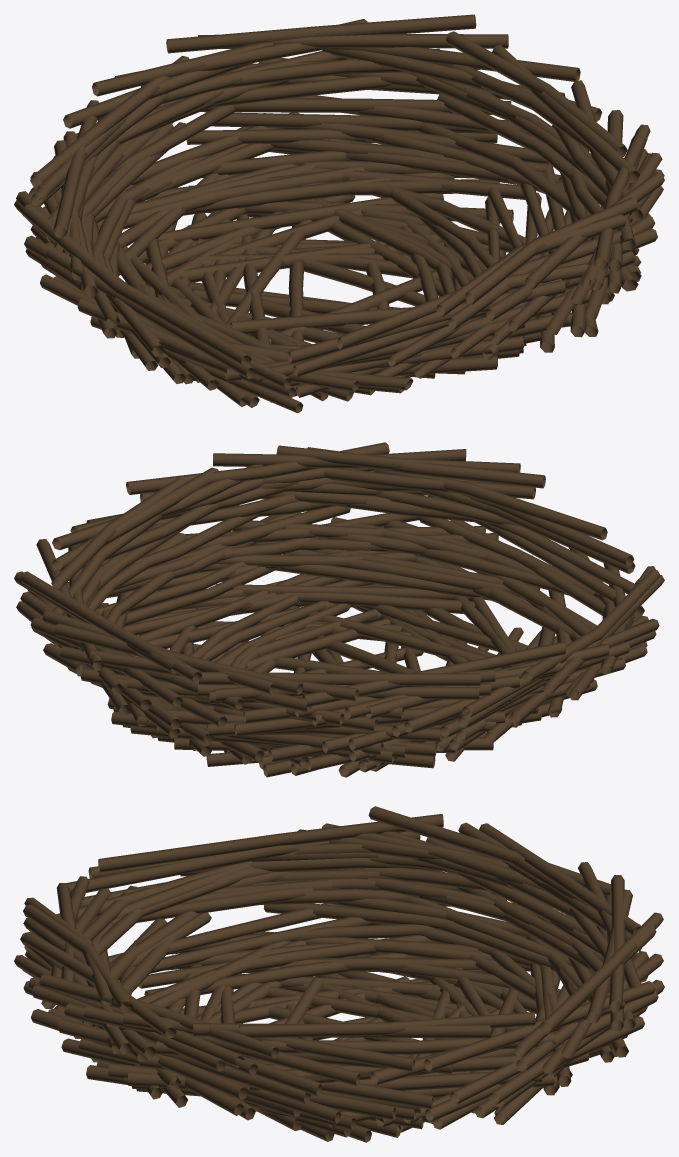
The model's file is MeshedNest.fbx.
3 views of the same model, one above another, from view 1: azimuth 30°, elevation 25°; view 2: azimuth 150°, elevation 25°; view 3: azimuth 270°, elevation 25° (orthographic). The views are drawn at different scales.
Visible parts, largest first — view 1: Plane; view 2: Plane; view 3: Plane.
Boxes of the visible parts, bbox=[...] form: Plane: bbox=[14, 14, 664, 413]; Plane: bbox=[14, 442, 664, 777]; Plane: bbox=[14, 806, 664, 1142].
Bounding box in the file's own units: 214 × 56.35 × 219.
